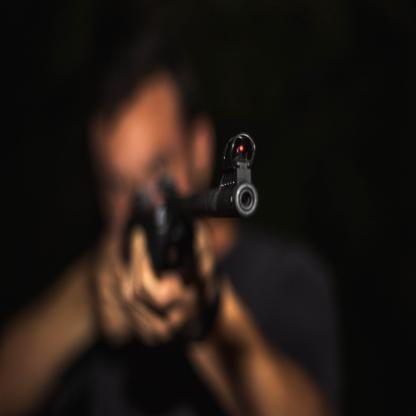handgun: (126, 128, 260, 281)
